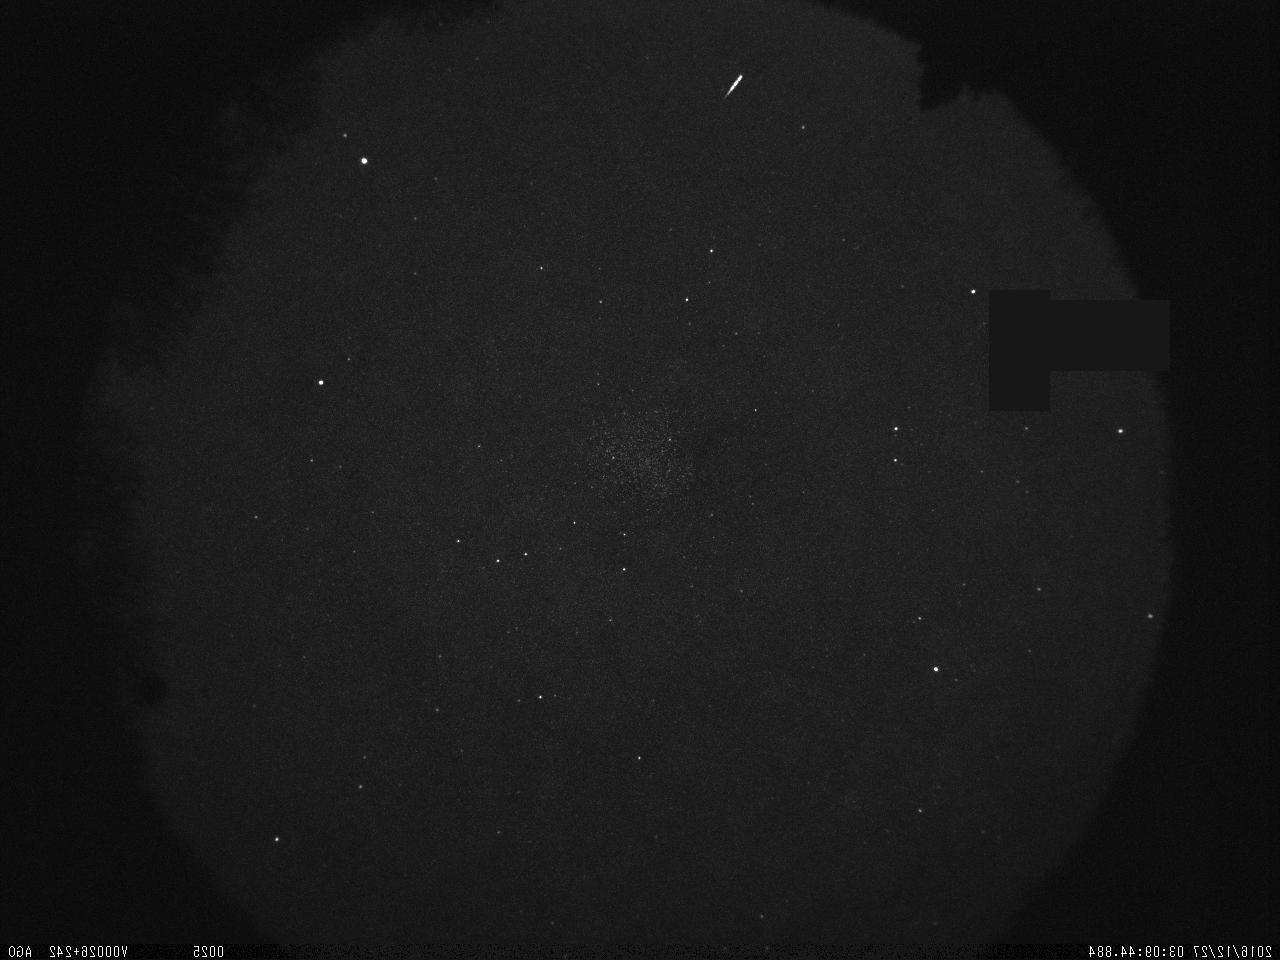meteor: (719, 67, 747, 107)
